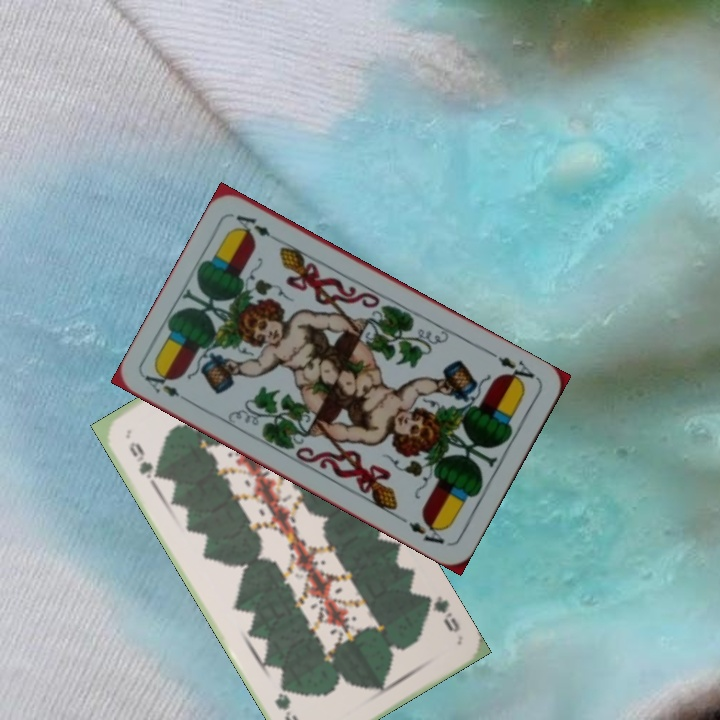EA: (485, 347, 540, 388), (141, 367, 182, 400)
G9: (421, 591, 463, 636), (125, 438, 161, 487)
